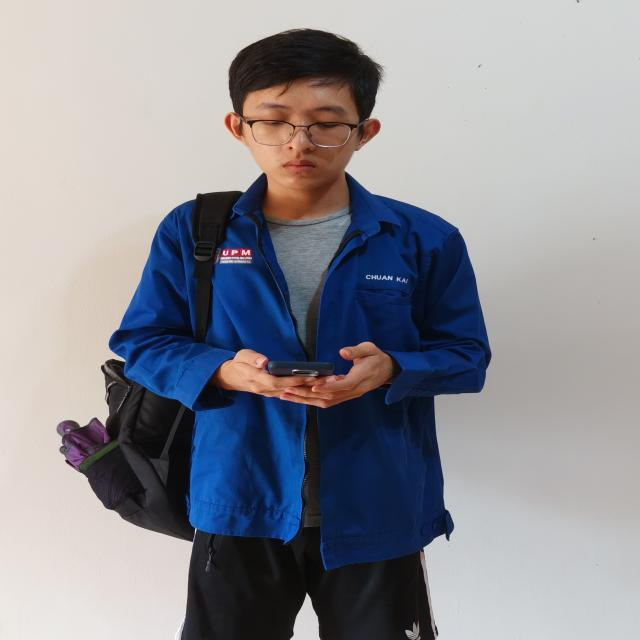person_with_labcoat: (59, 29, 491, 640)
